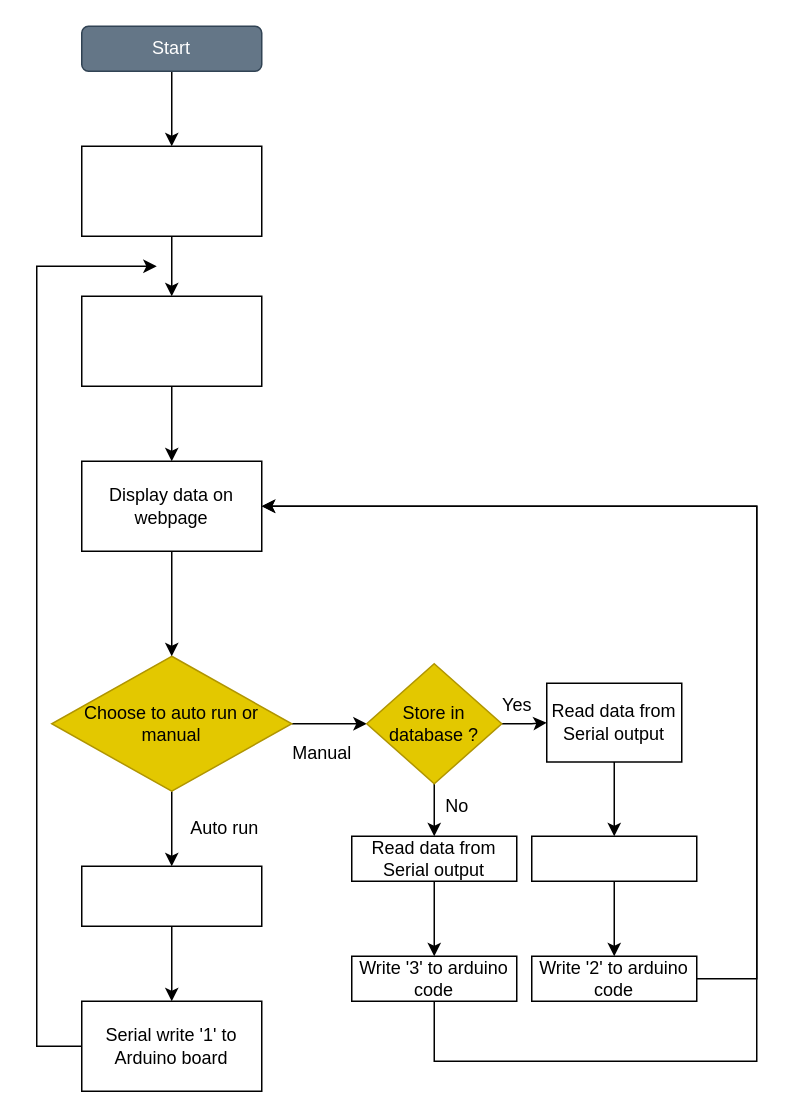
This 795x1118 diagram has some shape labels left out. The centre of each missing label's shape, as x and y in pixels:
Display the current mode on webpage: the point at 171,895
Store in database: the point at 613,858
User access to web: the point at 171,190
User send request to read data: the point at 171,340
